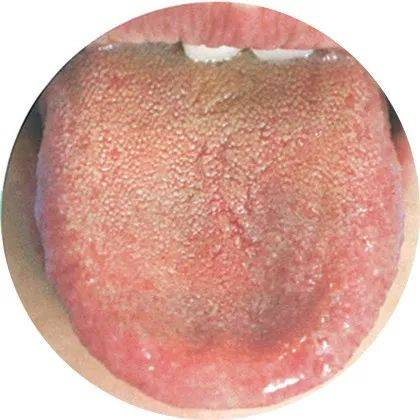huangtaishe: (35, 43, 405, 410)
liewenshe: (190, 140, 258, 249)
